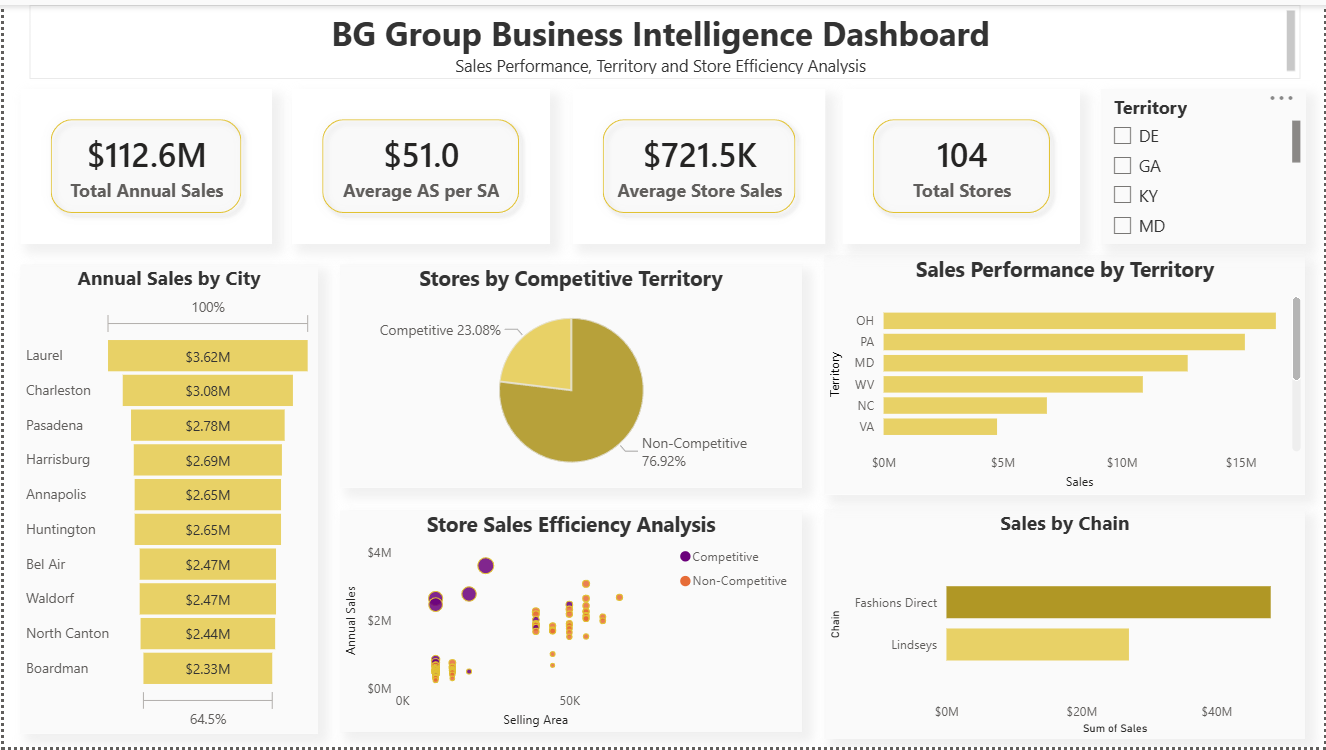

The page's visual inventory and layout, read from the dashboard file:
{"tool":"powerbi","page":{"name":"Page 1","canvas":[1280,720],"ordinal":0},"visuals":[{"type":"textbox","box":[24.3,0,1232.9,71.4],"z":0},{"type":"cardVisual","title":"Total Sales","fields":{"Data":["Names.Total Annual Sales"]},"box":[16,81.7,243.8,149.9],"z":0,"group":"g3"},{"type":"barChart","title":"Sales Performance by Territory","fields":{"Category":["Names.Territory"],"Y":["Names.Total Sales"]},"box":[796.7,243.3,466.7,231.7],"z":0,"group":"g2"},{"type":"group","id":"g1","title":"Group 2","box":[16,81.5,1246,149.9],"z":1000},{"type":"cardVisual","title":"Total Sales","fields":{"Data":["Names.Average AS per SA"]},"box":[279.5,81.9,249.8,149.9],"z":1000,"group":"g3"},{"type":"pieChart","title":"Stores by Competitive Territory","fields":{"Category":["Names.Competitive Territory"],"Y":["Names.Total Stores"]},"box":[326.7,251.6,448.3,216.7],"z":1000,"group":"g2"},{"type":"cardVisual","title":"Total Sales","fields":{"Data":["Names.Average Sales"]},"box":[552.1,81.9,245.3,149.9],"z":2000,"group":"g3"},{"type":"group","id":"g2","title":"Group 3","box":[16.7,243.3,1246.7,470],"z":2000},{"type":"scatterChart","title":" Store Sales Efficiency Analysis","fields":{"X":["Sum(Names.Selling area)"],"Y":["Sum(Names.Annual sales)"],"Series":["Names.Competitive Territory"],"Size":["Sum(Names.Sales Per Area)"],"Category":["Names.Name"]},"box":[327.1,490.6,448.5,215.4],"z":2000,"group":"g2"},{"type":"cardVisual","title":"Total Sales","fields":{"Data":["Names.Total Stores"]},"box":[814.1,81.9,230.2,149.9],"z":3000,"group":"g3"},{"type":"funnel","title":"Annual Sales by City","fields":{"Category":["Names.City"],"Y":["Sum(Names.Annual sales)"]},"box":[16.7,251.6,288.3,455],"z":3000,"group":"g2"},{"type":"barChart","title":"Sales by Chain","fields":{"Category":["Names.Chain"],"Y":["Sum(Names.Sales)"]},"box":[796.7,490,466.7,223.3],"z":4000,"group":"g2"},{"type":"slicer","fields":{"Values":["Names.Territory"]},"box":[1063.3,81.5,199.2,150.6],"z":6000,"group":"g1"},{"type":"group","id":"g3","title":"Group 1","box":[16,81.7,1028.2,150.1],"z":9003,"group":"g1"}]}

Visuals, with their boxes in screenshot pixels (x1, y1, x2, y2), scaled from the page's 1280x720 canvas onto the 1326x750 screenshot:
textbox: (x1=25, y1=0, x2=1302, y2=74)
"Total Sales" cardVisual: (x1=17, y1=85, x2=269, y2=241)
"Sales Performance by Territory" barChart: (x1=825, y1=253, x2=1309, y2=495)
"Group 2" group: (x1=17, y1=85, x2=1307, y2=241)
"Total Sales" cardVisual: (x1=290, y1=85, x2=548, y2=241)
"Stores by Competitive Territory" pieChart: (x1=338, y1=262, x2=803, y2=488)
"Total Sales" cardVisual: (x1=572, y1=85, x2=826, y2=241)
"Group 3" group: (x1=17, y1=253, x2=1309, y2=743)
" Store Sales Efficiency Analysis" scatterChart: (x1=339, y1=511, x2=803, y2=735)
"Total Sales" cardVisual: (x1=843, y1=85, x2=1082, y2=241)
"Annual Sales by City" funnel: (x1=17, y1=262, x2=316, y2=736)
"Sales by Chain" barChart: (x1=825, y1=510, x2=1309, y2=743)
slicer - Names.Territory: (x1=1102, y1=85, x2=1308, y2=242)
"Group 1" group: (x1=17, y1=85, x2=1082, y2=241)
